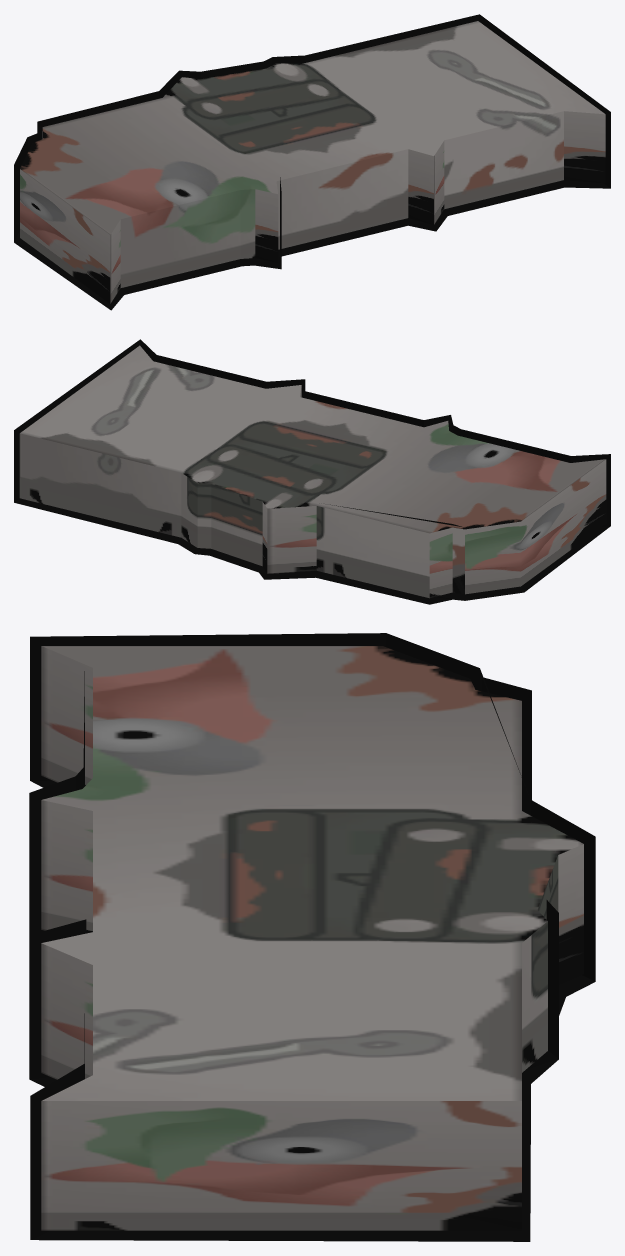
Rendered from Building_AncientTableTailorElectric_Things_Building_Ancient_Workbenches_AncientTableTailorElectric.glb.
3 views of the same model, one above another, from view 1: azimuth 30°, elevation 25°; view 2: azimuth 150°, elevation 25°; view 3: azimuth 270°, elevation 25° (orthographic). The views are drawn at different scales.
Parts seen in each view (by area): view 1: Body, Outline; view 2: Body, Outline; view 3: Body, Outline.
Boxes of the visible parts, box(x1,y1,x2,y2) form: Body: box(20, 21, 605, 303); Outline: box(14, 14, 610, 310); Body: box(19, 345, 606, 598); Outline: box(14, 339, 610, 604); Body: box(41, 646, 583, 1230); Outline: box(29, 633, 595, 1241).
Bounding box in the file's own units: 2.96 × 0.4527 × 1.53.
2 materials, 1 textured.
